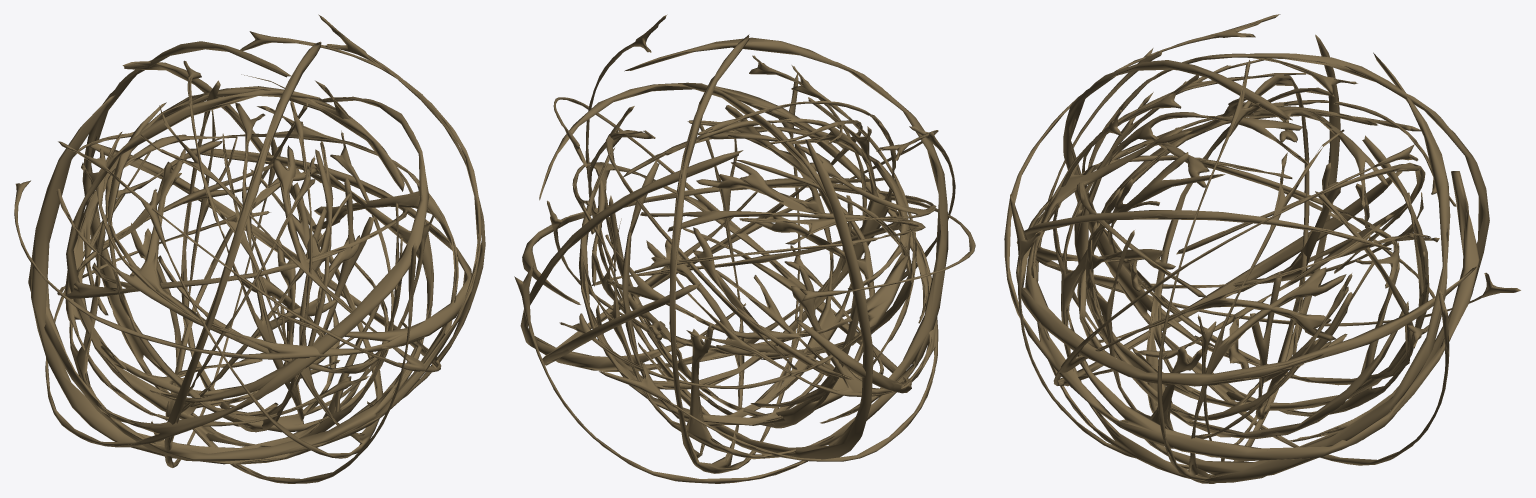
Rendered from plant-7.glb.
3 views of the same model, side by side, from view 1: azimuth 30°, elevation 25°; view 2: azimuth 150°, elevation 25°; view 3: azimuth 270°, elevation 25° (orthographic). The views are drawn at different scales.
Parts seen in each view (by area): view 1: Plane.007_Material.001_0; view 2: Plane.007_Material.001_0; view 3: Plane.007_Material.001_0.
Part boxes in pixels (x1=…): Plane.007_Material.001_0: x1=14, y1=14, x2=485, y2=483; Plane.007_Material.001_0: x1=514, y1=14, x2=975, y2=483; Plane.007_Material.001_0: x1=1004, y1=14, x2=1520, y2=483.
Bounding box in the file's own units: 0.4469 × 0.4608 × 0.4767.
